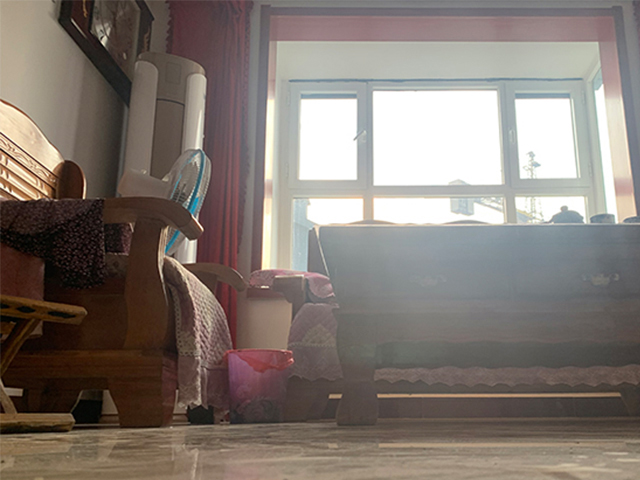sofa: (1, 100, 245, 430)
stool: (1, 295, 85, 433)
table: (315, 223, 640, 427)
trashcan: (225, 347, 293, 425)
